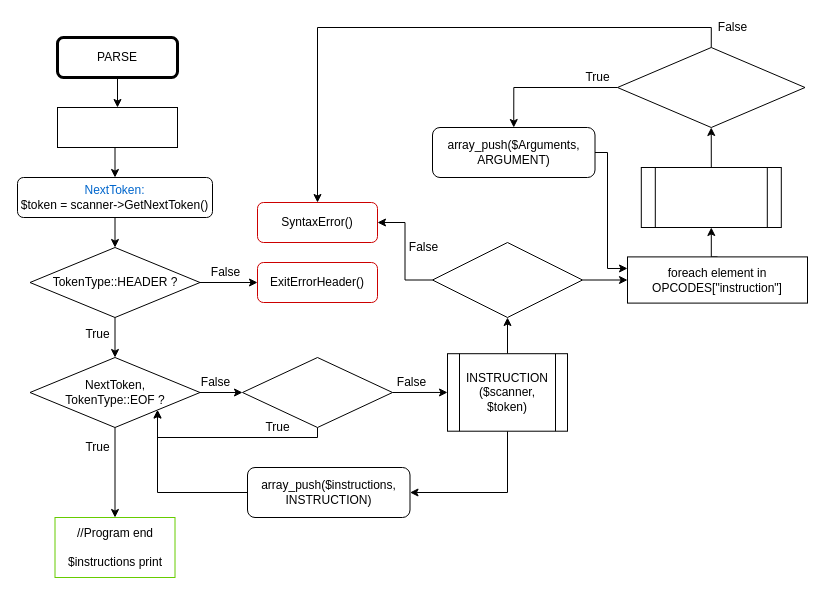
Image size: 825x595. Some labels were removed from this diagram. Each missing label, with the box of its shape:
ARGUMENT ($token, $element): (640, 166, 781, 228)
IsOpcode($token): (432, 242, 582, 318)
scanner, instructions = array(): (56, 106, 178, 148)
SyntaxCompatible($token): (616, 46, 805, 128)
TokenType::EOL ?: (242, 356, 392, 428)
